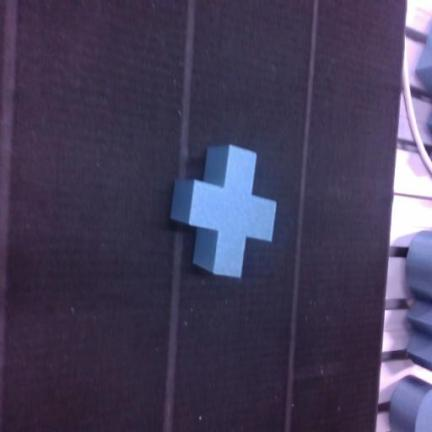cross: (172, 146, 276, 277)
